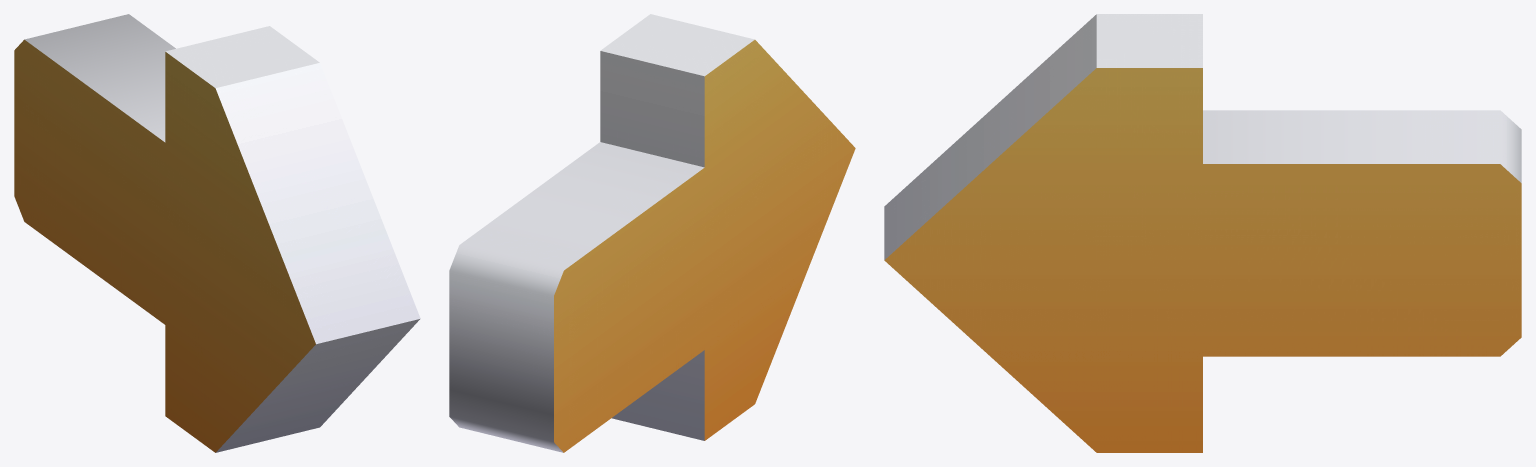
The model's file is arrow-standing-transformed.glb.
The picture shows the model from 3 angles, left to right: view 1: azimuth 30°, elevation 25°; view 2: azimuth 150°, elevation 25°; view 3: azimuth 270°, elevation 25°; orthographic projection. The views are drawn at different scales.
Visible parts, largest first — view 1: arrow-standing; view 2: arrow-standing; view 3: arrow-standing.
Part boxes in pixels (<box>): arrow-standing: <box>14,14,420,452</box>; arrow-standing: <box>449,14,855,452</box>; arrow-standing: <box>884,14,1521,452</box>.
Bounding box in the file's own units: 0.6001 × 2 × 3.
Materials: 1 (1 with a texture image).
